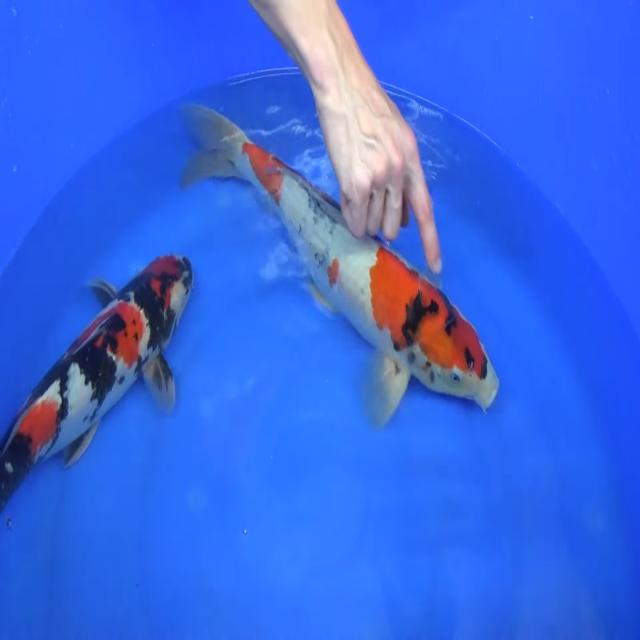Showa: (178, 100, 500, 429), (0, 249, 194, 515)
